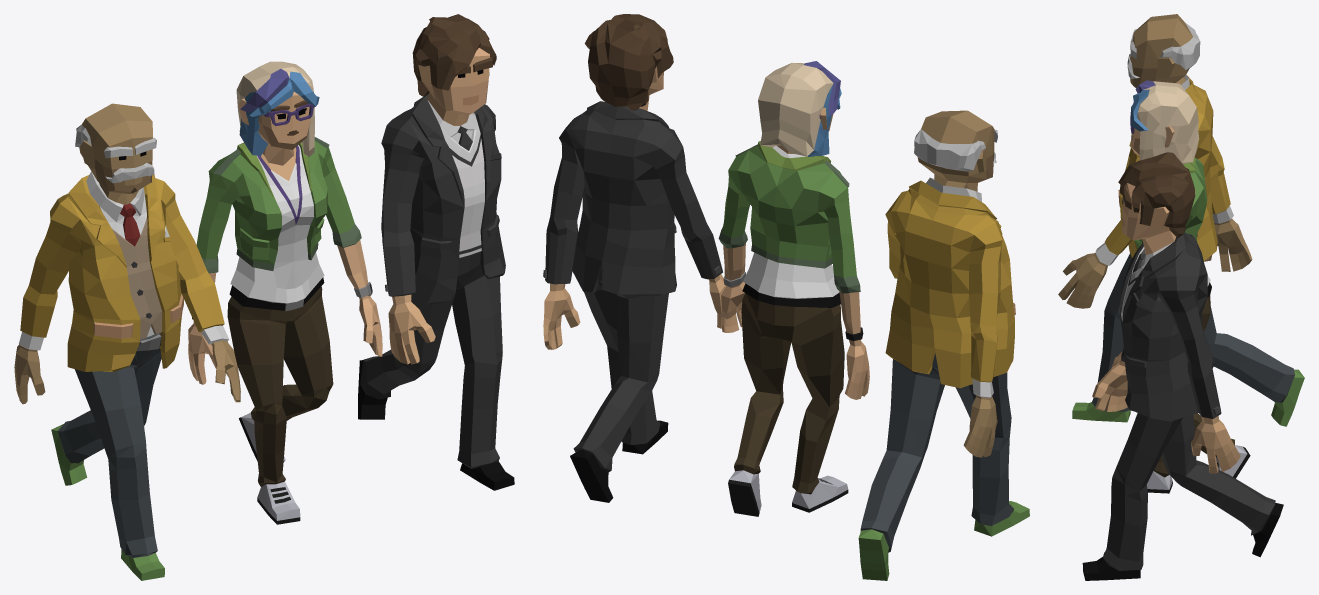
File: 3persons_walking.glb
3 views of the same model, side by side, from view 1: azimuth 30°, elevation 25°; view 2: azimuth 150°, elevation 25°; view 3: azimuth 270°, elevation 25° (orthographic). The views are drawn at different scales.
Parts seen in each view (by area): view 1: Character_1; view 2: Character_1; view 3: Character_1.
Part boxes in pixels (x1,y1,x2,y2): Character_1: (14,14,514,580); Character_1: (543,14,1029,580); Character_1: (1058,14,1304,580).
Bounding box in the file's own units: 1.95 × 1.81 × 0.9804.
1 material, 1 textured.
